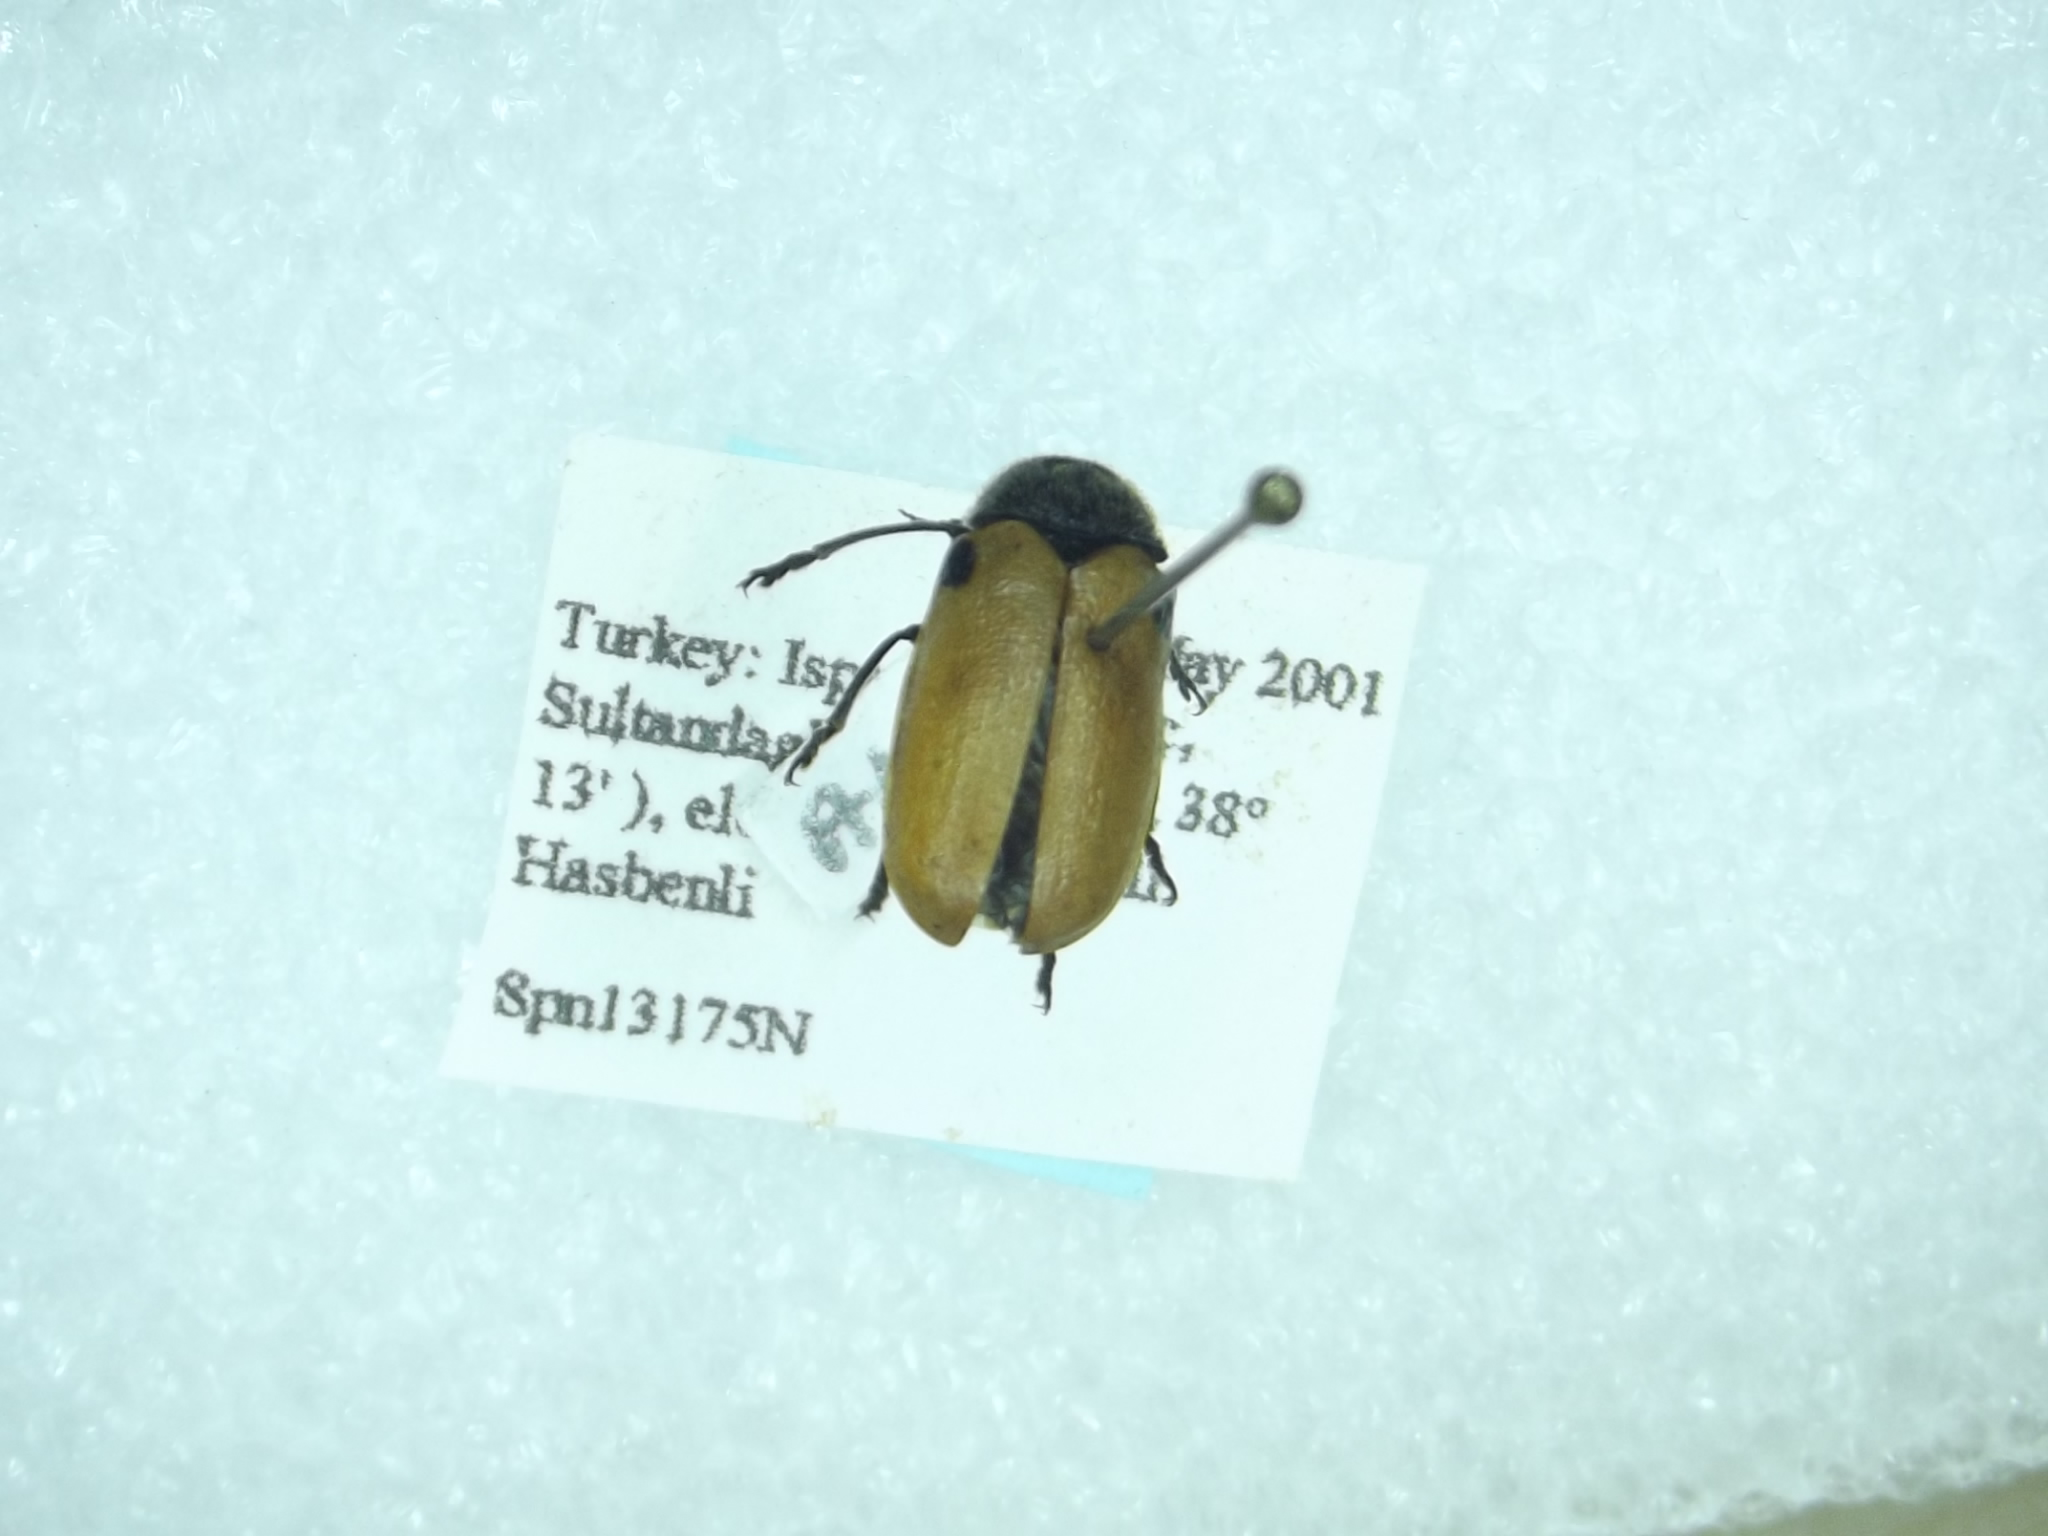Labidostomis_asiatica: (731, 411, 1206, 1031)
